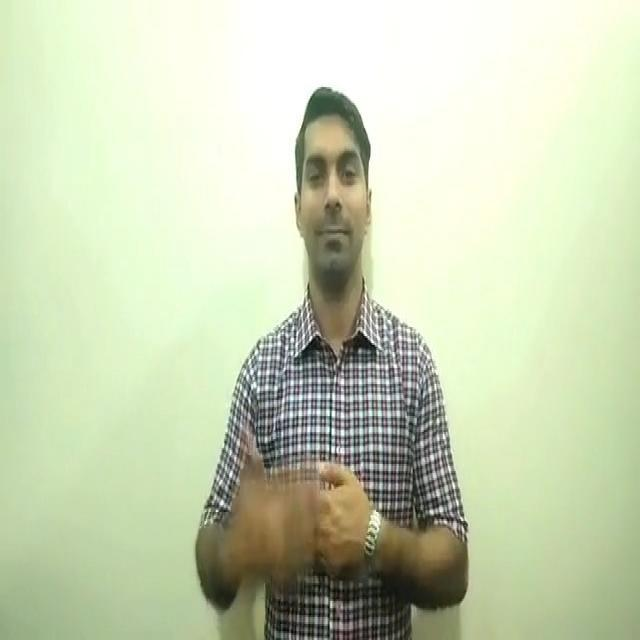bread: (205, 418, 390, 609)
